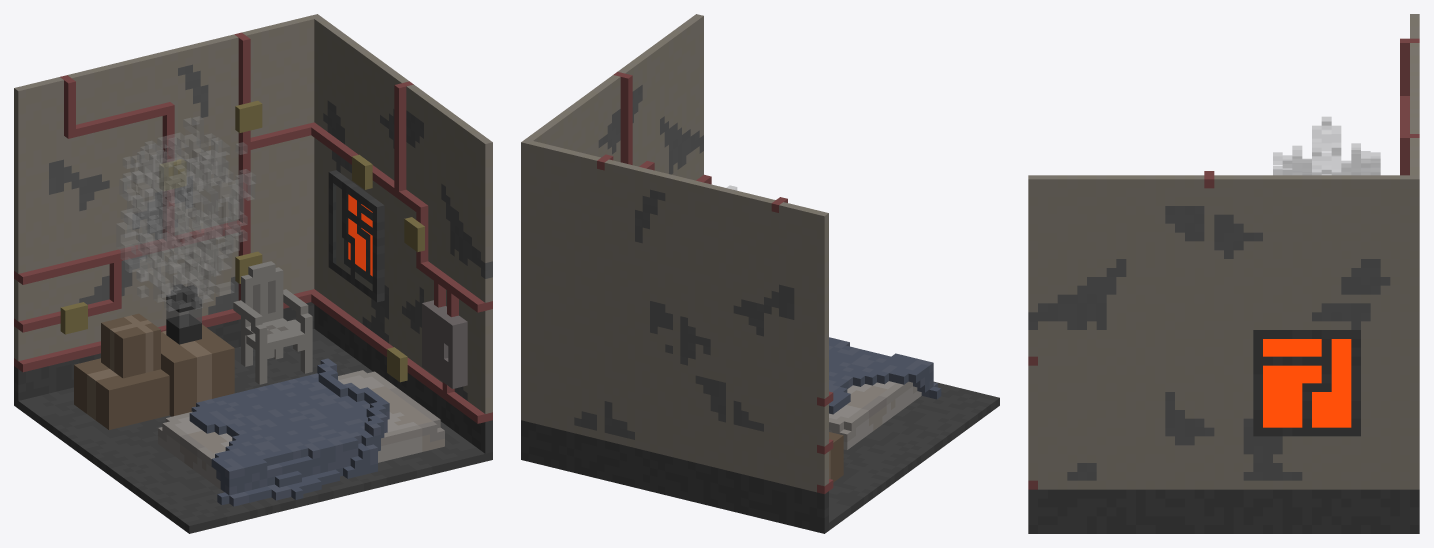
The model's file is bunker.glb.
3 renders of one model, left to right at view 1: azimuth 30°, elevation 25°; view 2: azimuth 150°, elevation 25°; view 3: azimuth 270°, elevation 25°, orthographic. The views are drawn at different scales.
Visible parts, largest first — view 1: bunker.005, bunker.002, bunker.001, bunker.003, bunker.004, bunker; view 2: bunker.005, bunker.002, bunker.003; view 3: bunker.005, bunker.001.
Part boxes in pixels (x1,y1,x2,y2): bunker.005: (14, 14, 492, 533); bunker.002: (158, 358, 444, 506); bunker.001: (116, 116, 255, 311); bunker.003: (74, 313, 234, 429); bunker.004: (233, 261, 312, 384); bunker: (166, 284, 201, 344); bunker.005: (521, 14, 999, 533); bunker.002: (829, 337, 941, 449); bunker.003: (829, 432, 843, 482); bunker.005: (1028, 14, 1419, 533); bunker.001: (1273, 117, 1380, 175).
Bounding box in the file's own units: 40 × 40 × 40.
